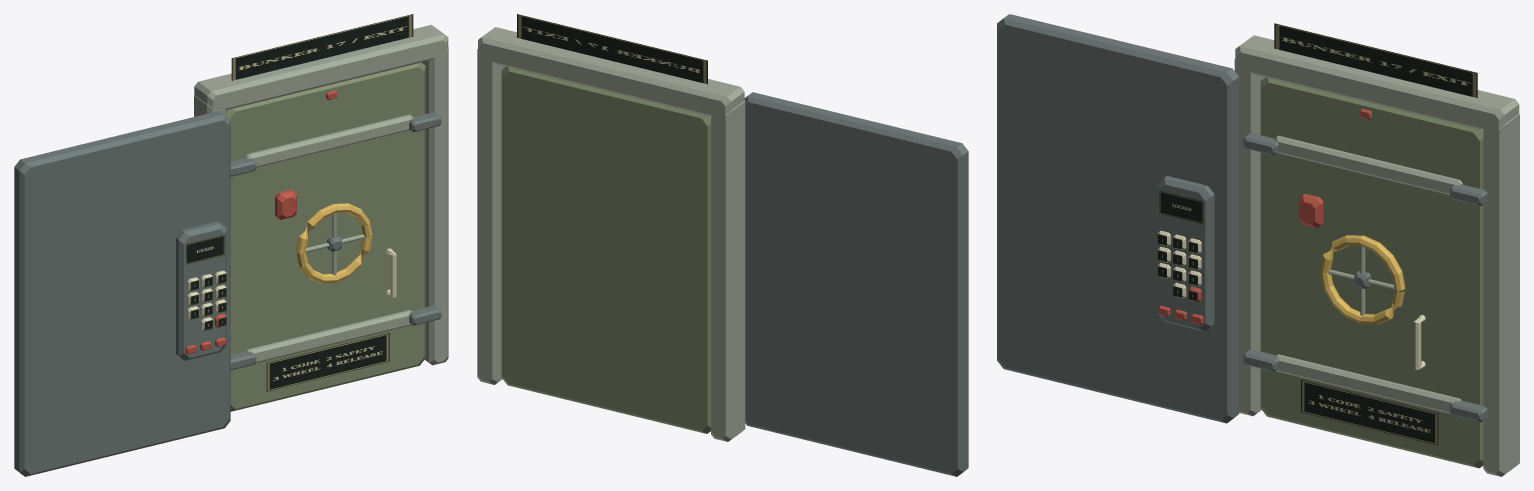
The model's file is blast-door.glb.
The picture shows the model from 3 angles, left to right: view 1: azimuth 30°, elevation 25°; view 2: azimuth 150°, elevation 25°; view 3: azimuth 330°, elevation 25°; orthographic projection. The views are drawn at different scales.
Visible parts, largest first — view 1: DoorPocketCover, DoorLeaf, DoorHeader, DoorFrame, Reinforcement (×2), DoorTitle, KeypadHousing, DoorSteps, LockingWheel_rim, KeyDisplay, SafetyLock, LockingWheel (+2 smaller); view 2: DoorPocketCover, DoorLeaf, DoorFrame (×2), DoorHeader, DoorTitle; view 3: DoorPocketCover, DoorLeaf, DoorFrame (×2), DoorHeader, Reinforcement (×2), KeypadHousing, DoorTitle, DoorSteps, LockingWheel_rim, KeyDisplay, SafetyLock, LockingWheel (+4 smaller).
Boxes of the visible parts, box(x1,y1,x2,y2) form: DoorPocketCover: box(14, 111, 230, 476); DoorLeaf: box(226, 62, 425, 411); DoorHeader: box(194, 24, 448, 109); DoorFrame: box(422, 46, 448, 365); Reinforcement (×2): box(245, 114, 413, 363); DoorTitle: box(231, 14, 413, 80); KeypadHousing: box(176, 221, 226, 360); DoorSteps: box(266, 333, 389, 391); LockingWheel_rim: box(296, 203, 372, 283); KeyDisplay: box(185, 234, 224, 264); SafetyLock: box(275, 189, 296, 219); LockingWheel: box(306, 213, 364, 275); DoorPocketCover: box(744, 92, 968, 476); DoorLeaf: box(501, 67, 710, 433); DoorFrame (×2): box(477, 49, 745, 441); DoorHeader: box(478, 27, 744, 117); DoorTitle: box(517, 14, 707, 84); DoorPocketCover: box(997, 14, 1239, 423); DoorLeaf: box(1260, 77, 1483, 468); DoorFrame (×2): box(1234, 59, 1519, 476); DoorHeader: box(1235, 35, 1519, 130); Reinforcement (×2): box(1274, 135, 1462, 413); KeypadHousing: box(1157, 176, 1214, 331); DoorTitle: box(1274, 23, 1477, 97); DoorSteps: box(1301, 380, 1438, 445); LockingWheel_rim: box(1320, 235, 1405, 324); KeyDisplay: box(1159, 191, 1203, 224); SafetyLock: box(1299, 194, 1323, 227); LockingWheel: box(1328, 246, 1398, 315).
Bounding box in the file's own units: 4.5 × 3.41 × 0.731.
Materials: 20 (14 with a texture image).
